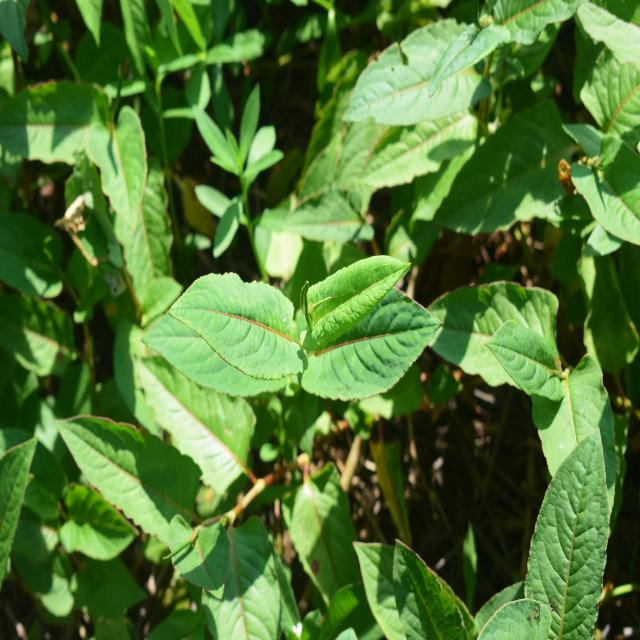Chinese_knotweed: (434, 264, 614, 606), (141, 241, 422, 438)
